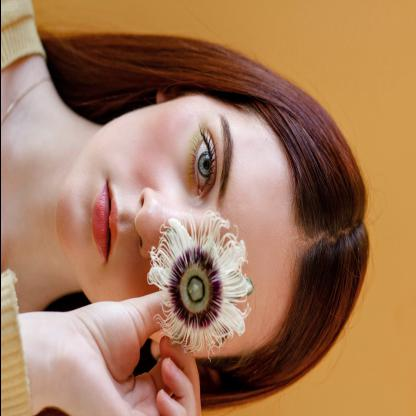Eye: (187, 125, 216, 200)
Mouth: (92, 181, 118, 264)
Nose: (134, 185, 207, 259)
